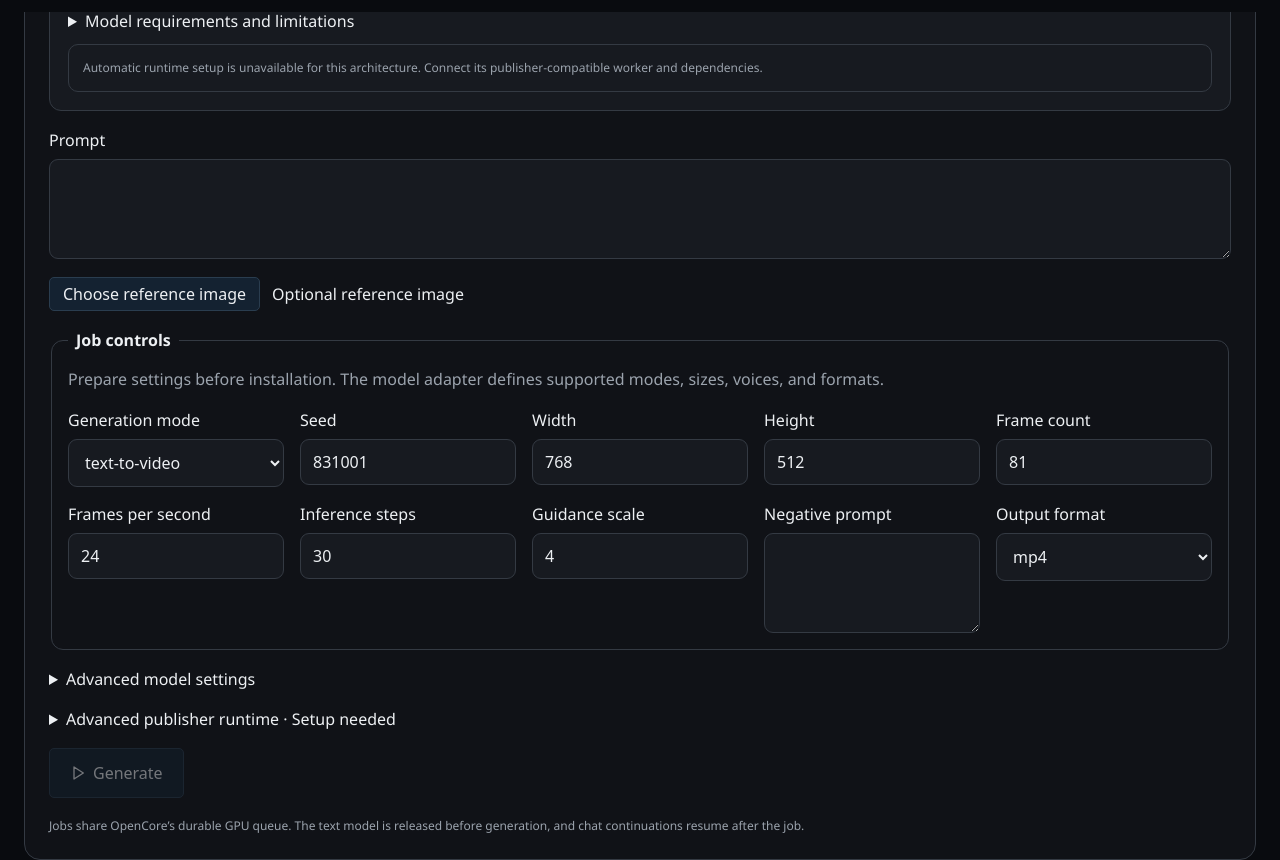
Scenario: connects an explicit worker and source folder for a setup-only catalog entry
(page scrolled)
Expected: the button "Generate" is disabled, top-left (49, 748), bottom-right (184, 798)
Click the heading "Advanced publisher runtime · Setup needed": (222,719) top-left (49, 708), bottom-right (396, 730)
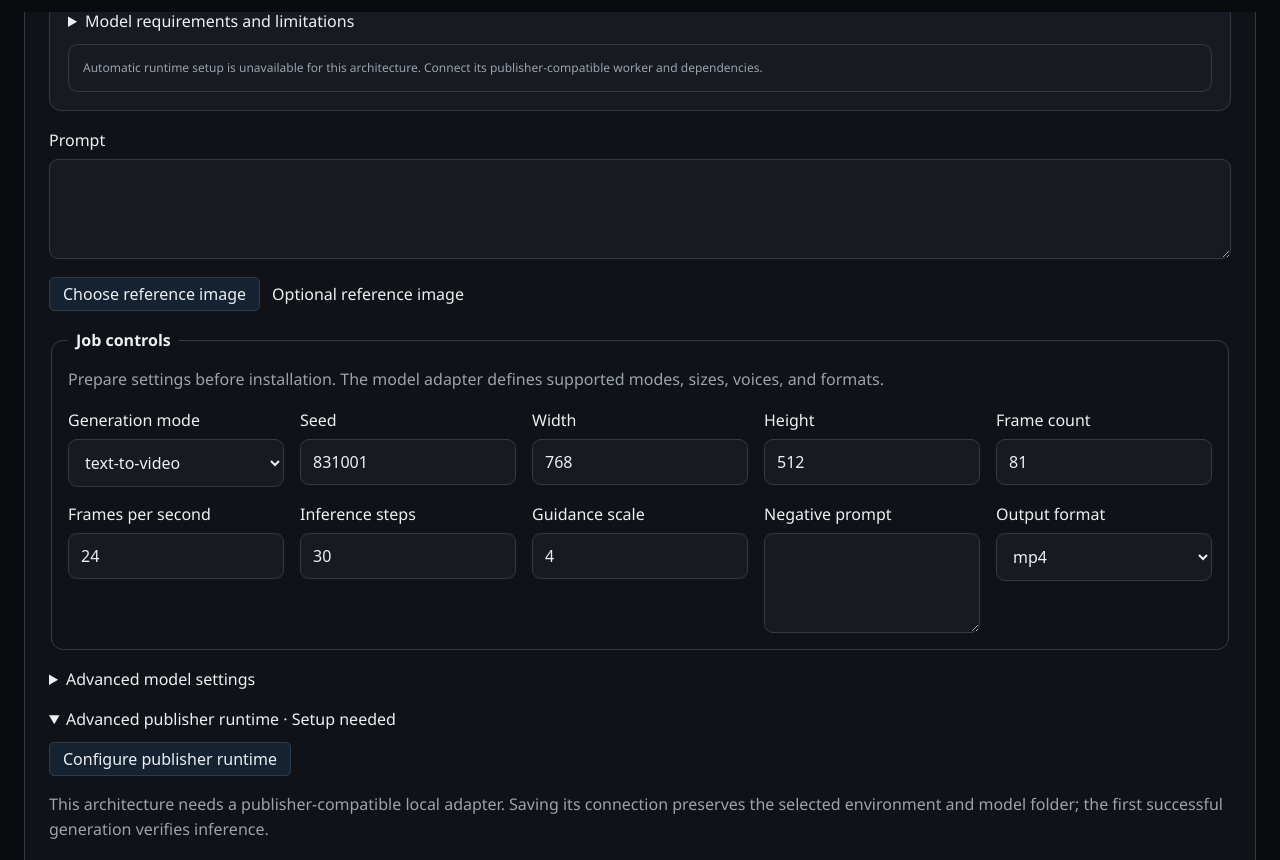
Click the button "Configure publisher runtime": (170,759) top-left (49, 742), bottom-right (291, 776)
(page scrolled)
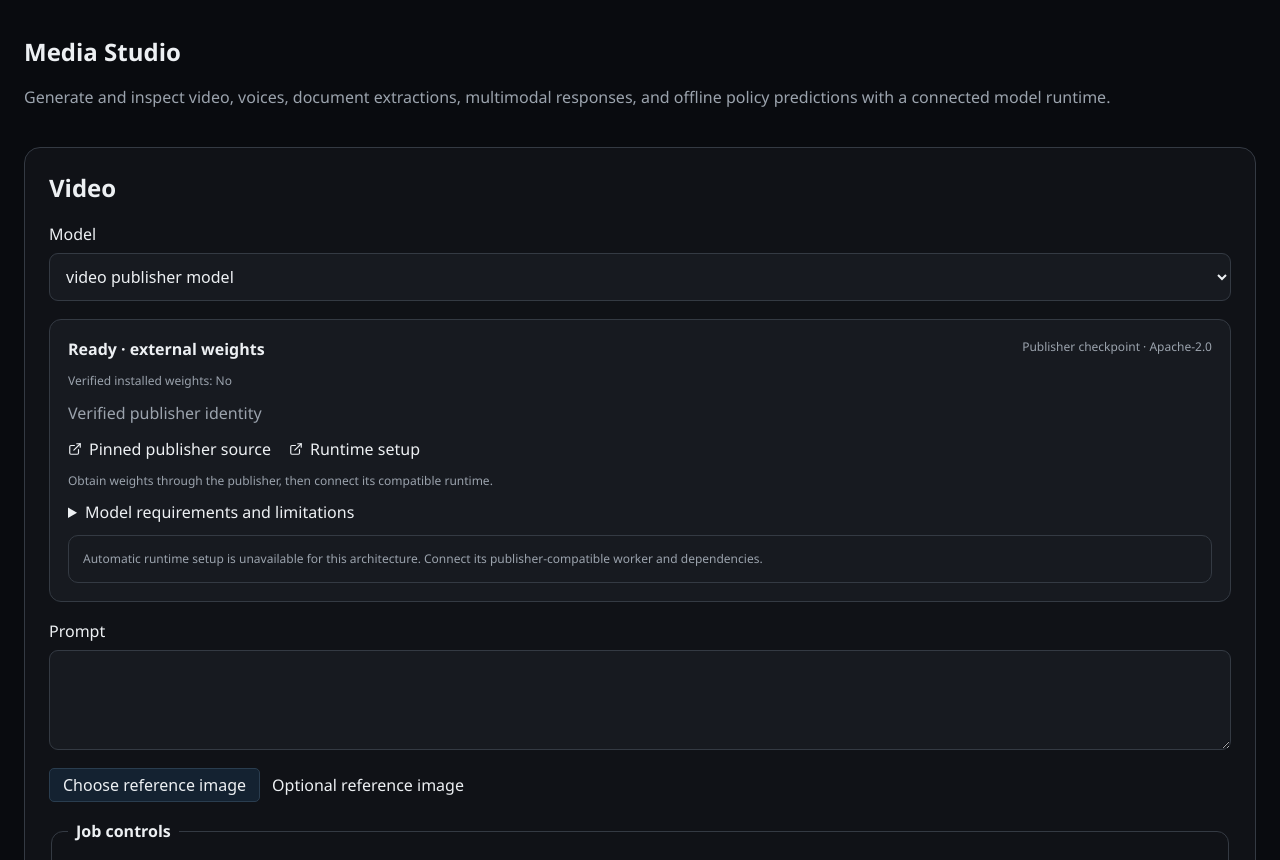
Expected: the text "Ready · external weights" is shown, top-left (68, 338), bottom-right (265, 360)
Expected: the text "Verified installed weights: No" is shown, top-left (68, 372), bottom-right (232, 389)
